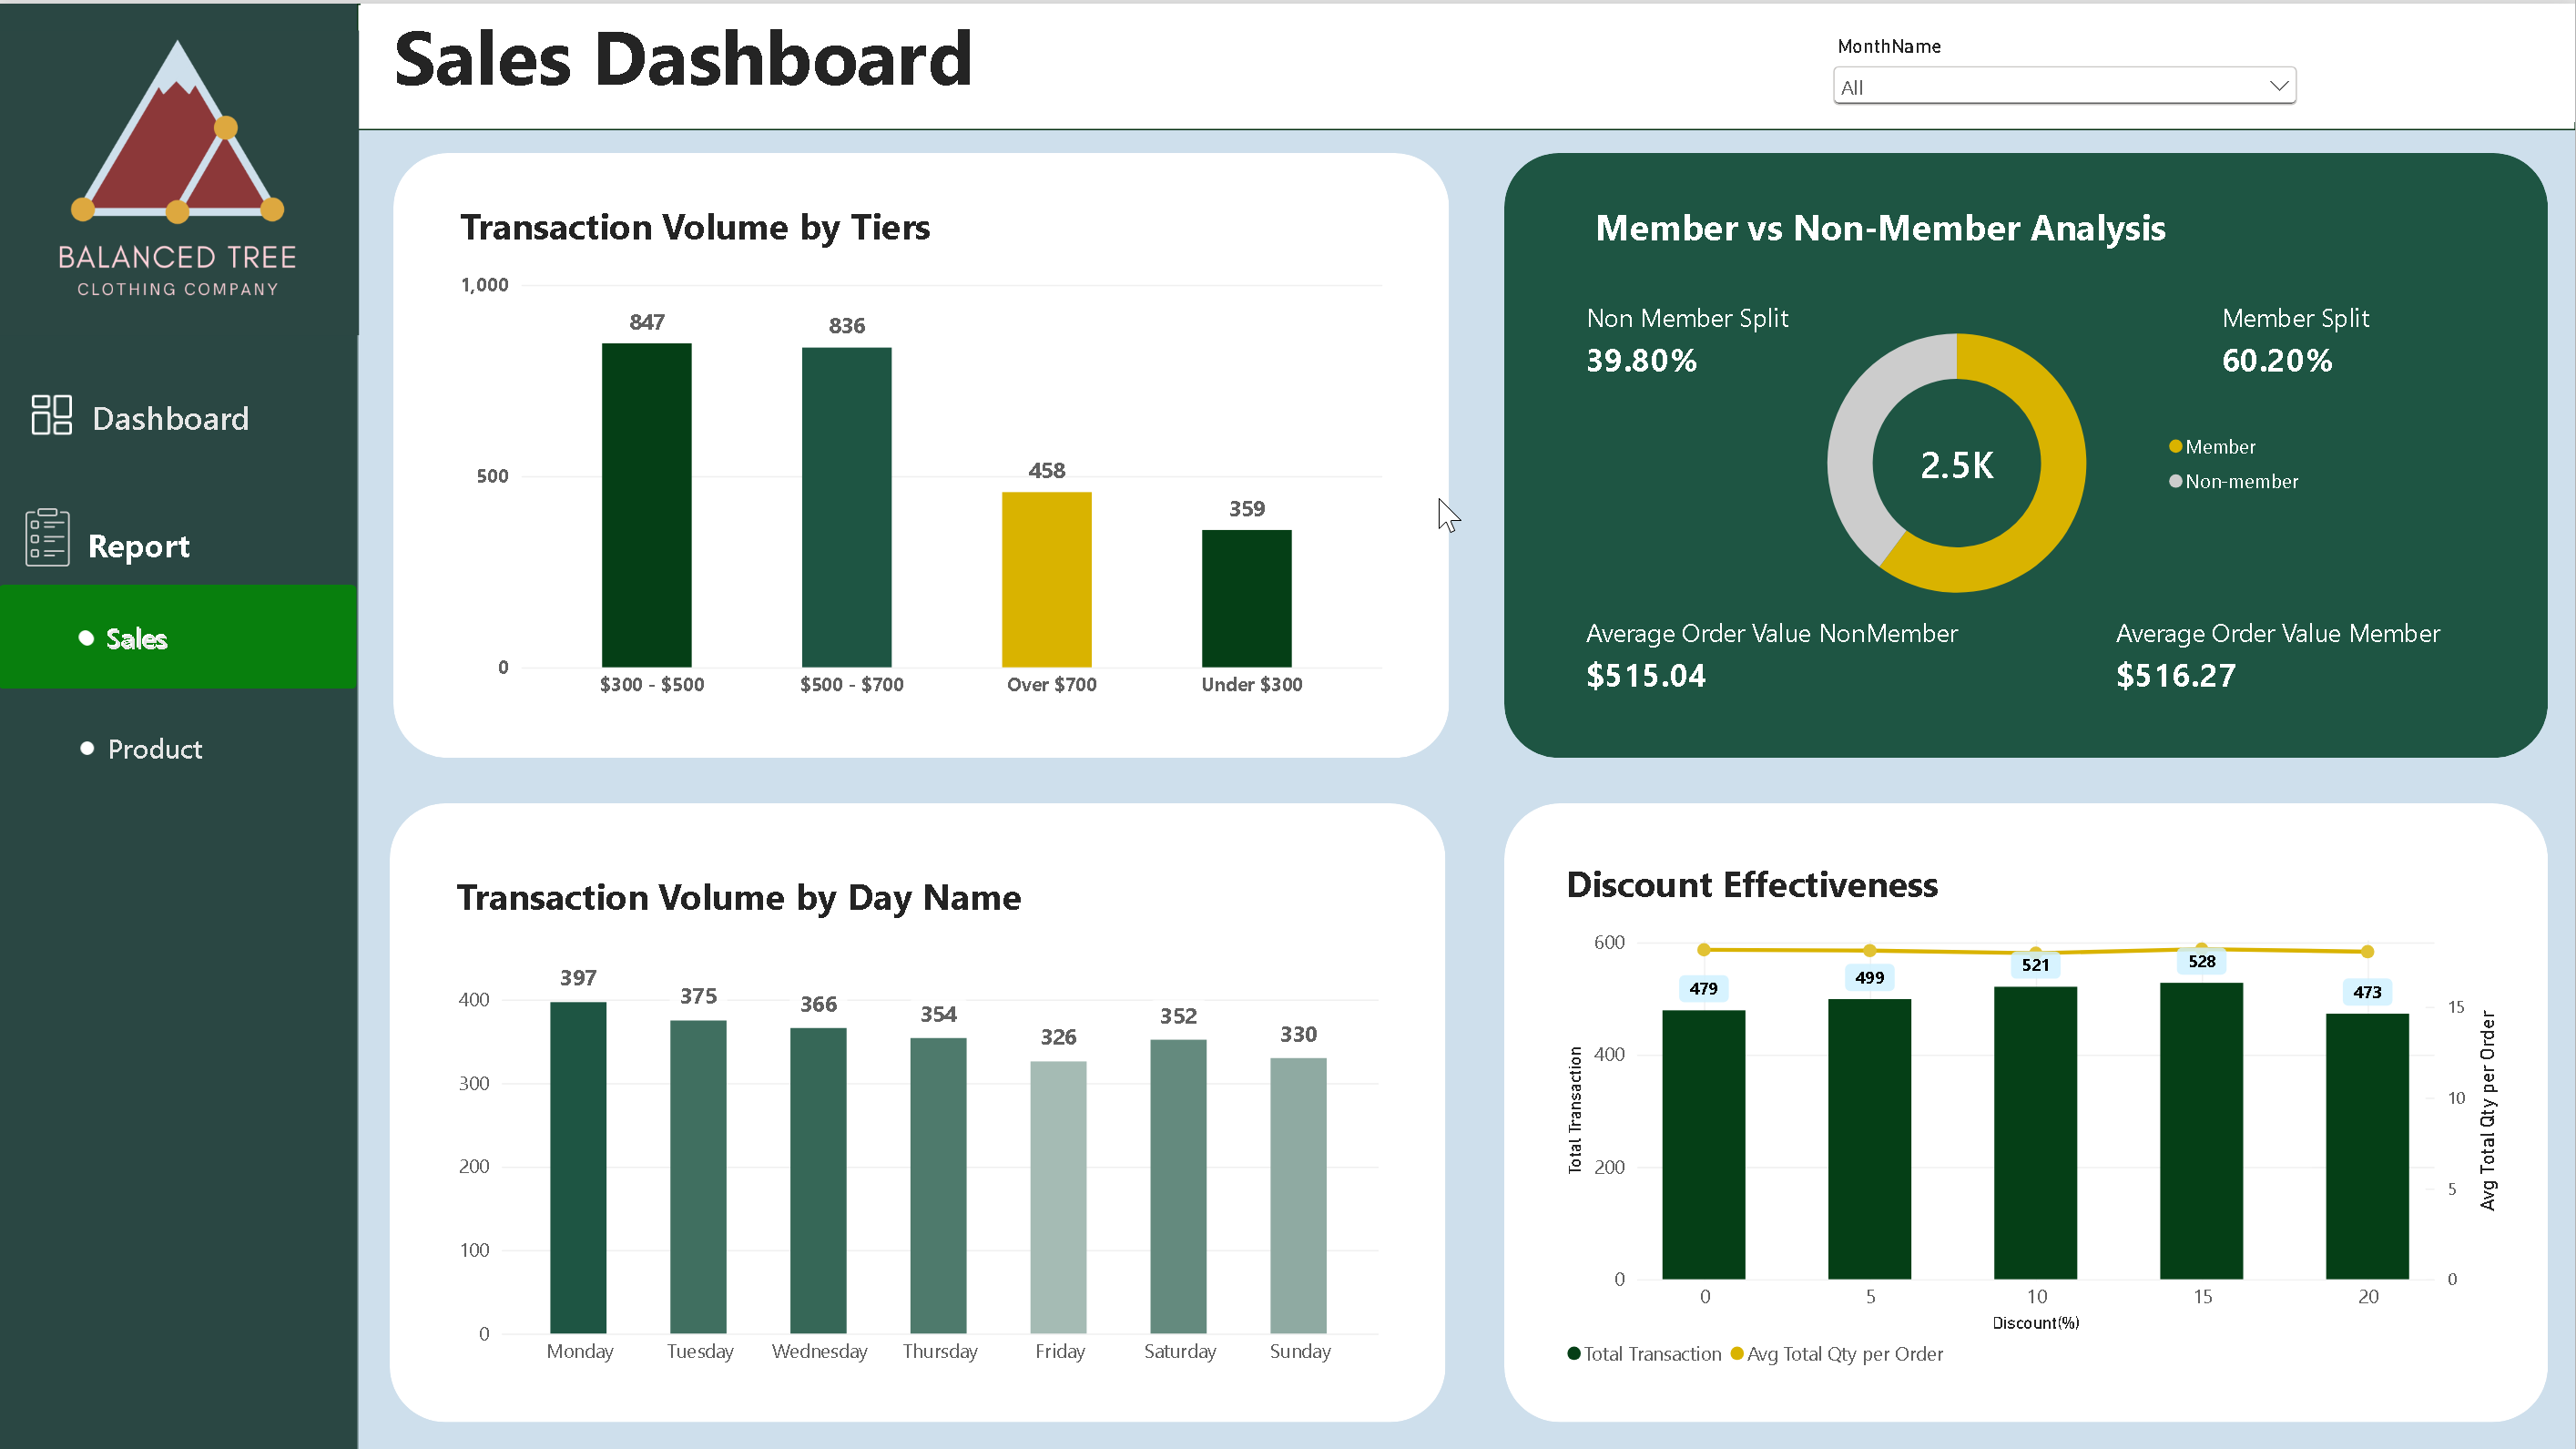

This screenshot's page, from the dashboard's own definition file:
{"tool":"powerbi","page":{"name":"Sales","canvas":[1920,1080],"ordinal":1},"visuals":[{"type":"image","box":[0,0,267.3,267.3],"z":0,"group":"g2"},{"type":"group","id":"g1","title":"Navigation","box":[0,267.2,267.2,323.3],"z":0},{"type":"actionButton","box":[0,267.2,267.2,77.6],"z":0,"group":"g1"},{"type":"group","id":"g2","title":"Header","box":[0,0,1708.3,267.3],"z":1000},{"type":"textbox","box":[293.1,0,1098.3,112.1],"z":1000,"group":"g2"},{"type":"actionButton","box":[0,431,267.2,77.6],"z":1000,"group":"g1"},{"type":"slicer","fields":{"Values":["Date_Transaction.MonthName"]},"box":[1354.8,23,353.4,65.5],"z":2000,"group":"g2"},{"type":"actionButton","box":[0,349.1,267.2,77.6],"z":2000,"group":"g1"},{"type":"shape","box":[292.4,595.3,786.7,461.2],"z":2000},{"type":"actionButton","box":[0,512.9,267.2,77.6],"z":3000,"group":"g1"},{"type":"shape","box":[1122.8,595.3,777.6,461.2],"z":3000},{"type":"shape","box":[1122.8,111.5,777.6,450.6],"z":4000},{"type":"shape","box":[292.4,111.5,786.7,450.6],"z":5000},{"type":"clusteredColumnChart","title":"Transaction Volume by Tiers","fields":{"Category":["Transaction_Summary.Revenue_Tier"],"Y":["CountNonNull(Transaction_Summary.Transaction_ID)"]},"box":[325.5,140.2,718.9,405.4],"z":6000},{"type":"donutChart","fields":{"Category":["sales.Member Status"],"Y":["Count(sales.Transaction_ID)"]},"box":[1285.9,208.2,452.1,271.3],"z":7000},{"type":"cardVisual","fields":{"Data":["sales.Member_Split_%"]},"box":[1561.7,198.8,161.3,107],"z":8000},{"type":"cardVisual","fields":{"Data":["sales.Non_Member_Split_%"]},"box":[1166.9,198.8,209.5,107],"z":9000},{"type":"cardVisual","fields":{"Data":["sales.Average Order Value NonMember"]},"box":[1166.9,432.7,316.5,107],"z":10000},{"type":"cardVisual","fields":{"Data":["sales.Average Oder Value Member"]},"box":[1561.3,432.5,316.5,107],"z":11000},{"type":"textbox","box":[1190.6,147.7,518.4,67.8],"z":12000},{"type":"lineClusteredColumnComboChart","title":"Transaction Volume by Day Name","fields":{"Category":["sales.Day Name"],"Y":["Count(sales.Transaction_ID)"]},"box":[325.5,633,718.9,402.4],"z":13000},{"type":"lineClusteredColumnComboChart","title":"Discount Effectiveness","fields":{"Category":["sales.Order Weighted Discount (bins)"],"Y":["Count(sales.Transaction_ID)"],"Y2":["sales.Avg Total Qty per Order"]},"box":[1151.4,622.4,726.4,412.9],"z":14000}]}

Visuals, with their boxes on the page's 1920x1080 design canvas (x1, y1, x2, y2). These are canvas units, not pixel positions in the 2576x1449 screenshot, which may show the page scaled, cropped or inside an application window:
image: x1=0 y1=0 x2=267 y2=267
"Navigation" group: x1=0 y1=267 x2=267 y2=590
actionButton: x1=0 y1=267 x2=267 y2=345
"Header" group: x1=0 y1=0 x2=1708 y2=267
textbox: x1=293 y1=0 x2=1391 y2=112
actionButton: x1=0 y1=431 x2=267 y2=509
slicer - Date_Transaction.MonthName: x1=1355 y1=23 x2=1708 y2=88
actionButton: x1=0 y1=349 x2=267 y2=427
shape: x1=292 y1=595 x2=1079 y2=1056
actionButton: x1=0 y1=513 x2=267 y2=590
shape: x1=1123 y1=595 x2=1900 y2=1056
shape: x1=1123 y1=112 x2=1900 y2=562
shape: x1=292 y1=112 x2=1079 y2=562
"Transaction Volume by Tiers" clusteredColumnChart: x1=326 y1=140 x2=1044 y2=546
donutChart - sales.Member Status x Count(sales.Transaction_ID): x1=1286 y1=208 x2=1738 y2=480
cardVisual - sales.Member_Split_%: x1=1562 y1=199 x2=1723 y2=306
cardVisual - sales.Non_Member_Split_%: x1=1167 y1=199 x2=1376 y2=306
cardVisual - sales.Average Order Value NonMember: x1=1167 y1=433 x2=1483 y2=540
cardVisual - sales.Average Oder Value Member: x1=1561 y1=432 x2=1878 y2=540
textbox: x1=1191 y1=148 x2=1709 y2=216
"Transaction Volume by Day Name" lineClusteredColumnComboChart: x1=326 y1=633 x2=1044 y2=1035
"Discount Effectiveness" lineClusteredColumnComboChart: x1=1151 y1=622 x2=1878 y2=1035
